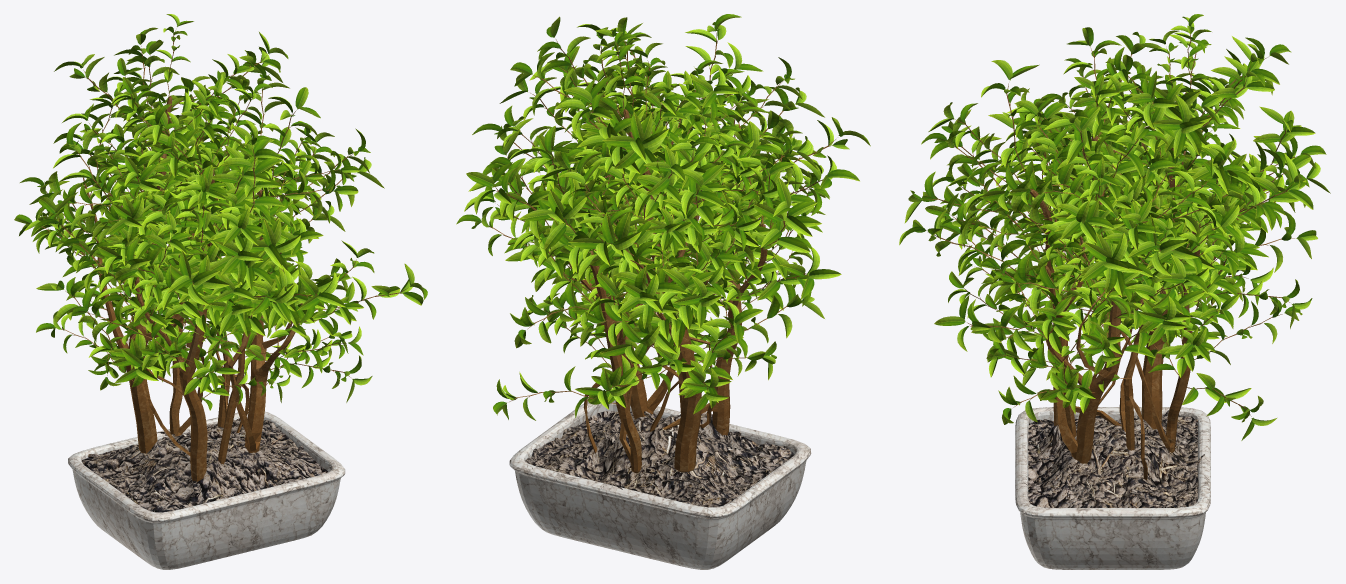
3 renders of one model, left to right at view 1: azimuth 30°, elevation 25°; view 2: azimuth 150°, elevation 25°; view 3: azimuth 270°, elevation 25°, orthographic. The views are drawn at different scales.
Parts seen in each view (by area): view 1: Arch41_040_obj_2, Arch41_040_obj_9, Arch41_040_obj_4, Arch41_040_obj_1, Arch41_040_obj_7, Arch41_040_obj_6, Arch41_040_obj_8, Arch41_040_obj_3; view 2: Arch41_040_obj_2, Arch41_040_obj_9, Arch41_040_obj_4, Arch41_040_obj_7, Arch41_040_obj_6, Arch41_040_obj_1, Arch41_040_obj_8, Arch41_040_obj_3; view 3: Arch41_040_obj_2, Arch41_040_obj_9, Arch41_040_obj_7, Arch41_040_obj_1, Arch41_040_obj_4, Arch41_040_obj_8, Arch41_040_obj_6, Arch41_040_obj_3.
Boxes of the visible parts, x1,y1,x2,y2 form: Arch41_040_obj_2: [38, 14, 370, 275]; Arch41_040_obj_9: [20, 128, 384, 313]; Arch41_040_obj_4: [68, 411, 345, 569]; Arch41_040_obj_1: [41, 30, 407, 481]; Arch41_040_obj_7: [32, 216, 423, 395]; Arch41_040_obj_6: [82, 418, 327, 512]; Arch41_040_obj_8: [14, 177, 427, 336]; Arch41_040_obj_3: [36, 257, 372, 410]; Arch41_040_obj_2: [466, 14, 824, 249]; Arch41_040_obj_9: [464, 100, 870, 300]; Arch41_040_obj_4: [509, 400, 811, 569]; Arch41_040_obj_7: [471, 171, 824, 409]; Arch41_040_obj_6: [525, 410, 794, 507]; Arch41_040_obj_1: [489, 33, 835, 473]; Arch41_040_obj_8: [456, 134, 841, 329]; Arch41_040_obj_3: [493, 226, 811, 420]; Arch41_040_obj_2: [921, 14, 1316, 249]; Arch41_040_obj_9: [899, 103, 1326, 293]; Arch41_040_obj_7: [948, 211, 1317, 392]; Arch41_040_obj_1: [928, 34, 1296, 480]; Arch41_040_obj_4: [1015, 407, 1210, 569]; Arch41_040_obj_8: [904, 154, 1330, 330]; Arch41_040_obj_6: [1028, 410, 1204, 508]; Arch41_040_obj_3: [983, 234, 1312, 440].
Bounding box in the file's own units: 4.92 × 7.02 × 5.32.
4 materials, 4 textured.
